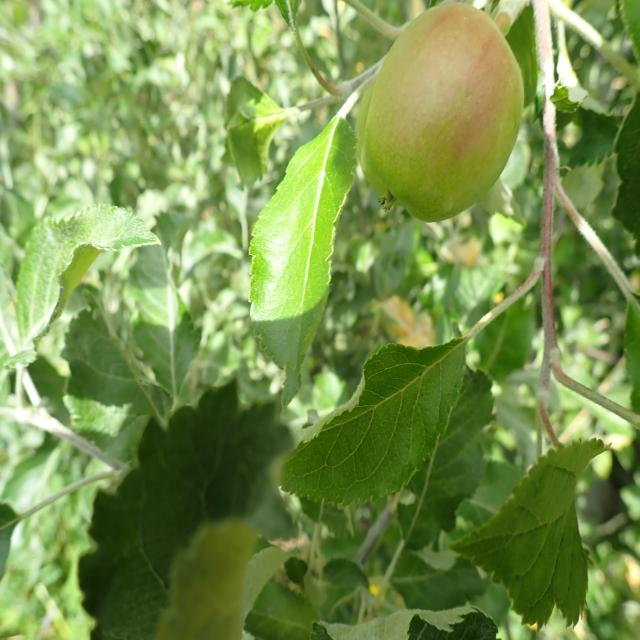healthy: (360, 1, 525, 223), (279, 335, 468, 512), (248, 113, 358, 411), (448, 435, 612, 631), (2, 202, 162, 370)
